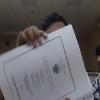notebook: (0, 23, 94, 99)
